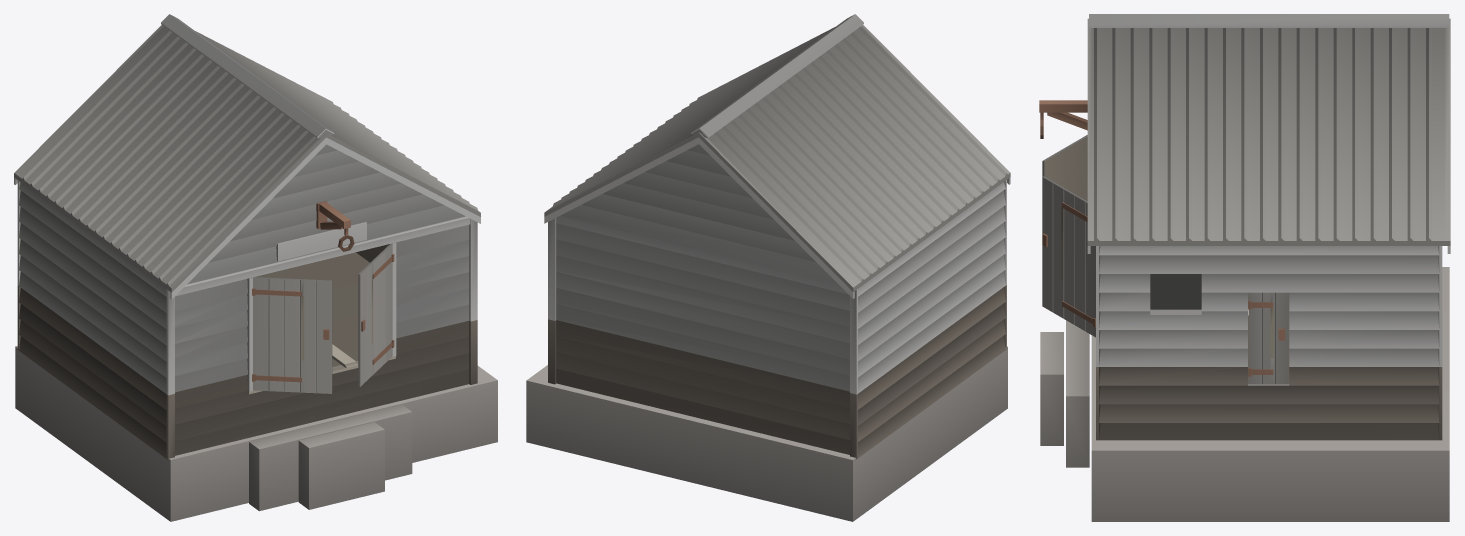
File: boatshed.glb
The picture shows the model from 3 angles, left to right: view 1: azimuth 30°, elevation 25°; view 2: azimuth 150°, elevation 25°; view 3: azimuth 270°, elevation 25°; orthographic projection. The views are drawn at different scales.
Visible parts, largest first — view 1: boatshed; view 2: boatshed; view 3: boatshed.
Boxes of the visible parts, x1=… form: boatshed: x1=14, y1=14, x2=497, y2=521; boatshed: x1=526, y1=14, x2=1010, y2=521; boatshed: x1=1039, y1=14, x2=1450, y2=521.
Size of the model in its own units: 8.48 by 8.82 by 8.
